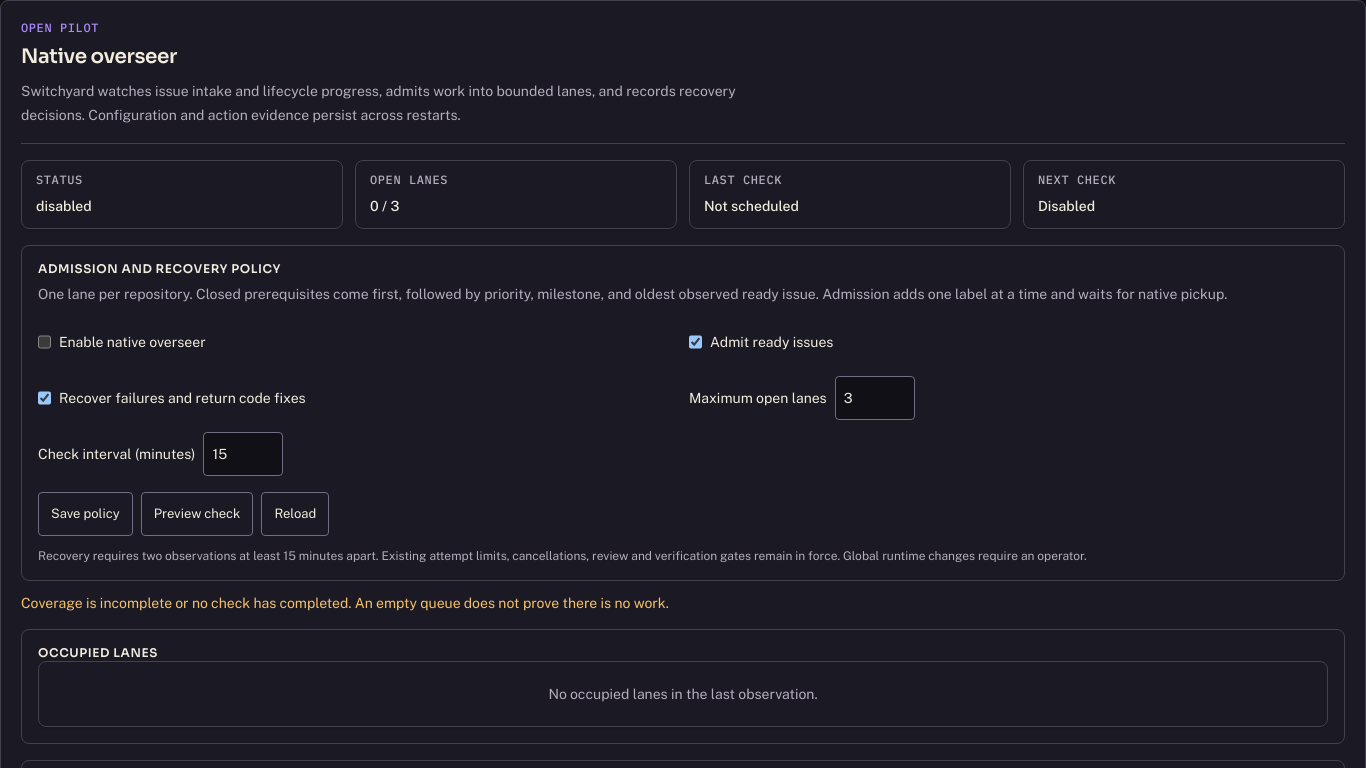
Scenario: keeps a failed revision reviewable without claiming success
The image size is (1366, 768).
Click the button "Save policy".
click(85, 514)  # box 38,492 -> 133,536
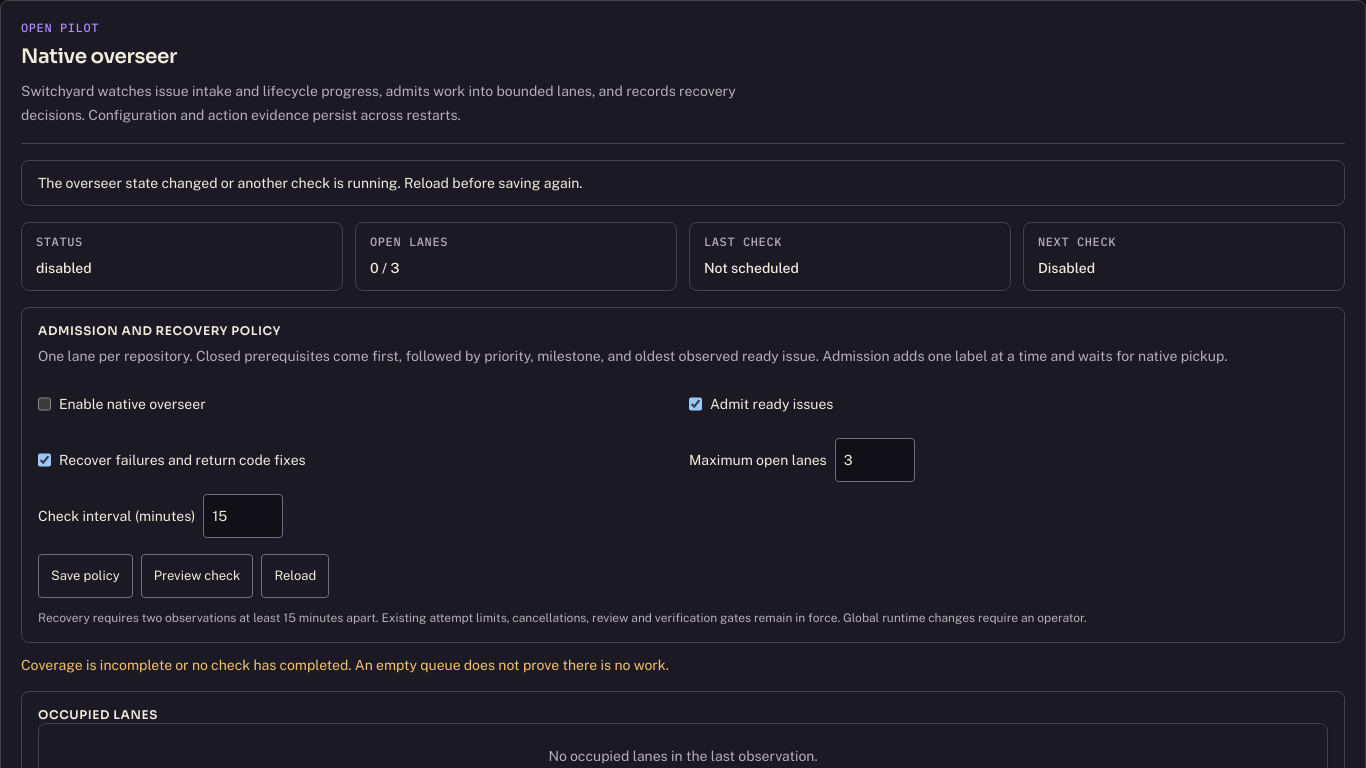
Now the message shows "Reload before saving again", box 38,175 -> 582,191
